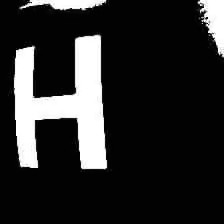LTR_H: (2, 22, 118, 178)
